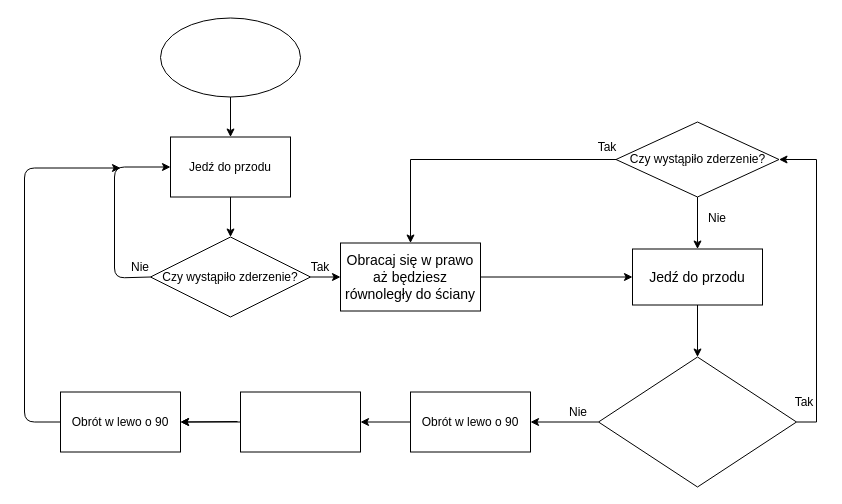
Some shapes in this 842 by 504 pixel diagram are drawn without their labels. The centre of each missing label's shape, as x and y in pixels:
"Czy ściana nadal jest po lewej stronie?" goes at [697,421].
"Jedź prosto" goes at [300,421].
"Start" goes at [230,57].
